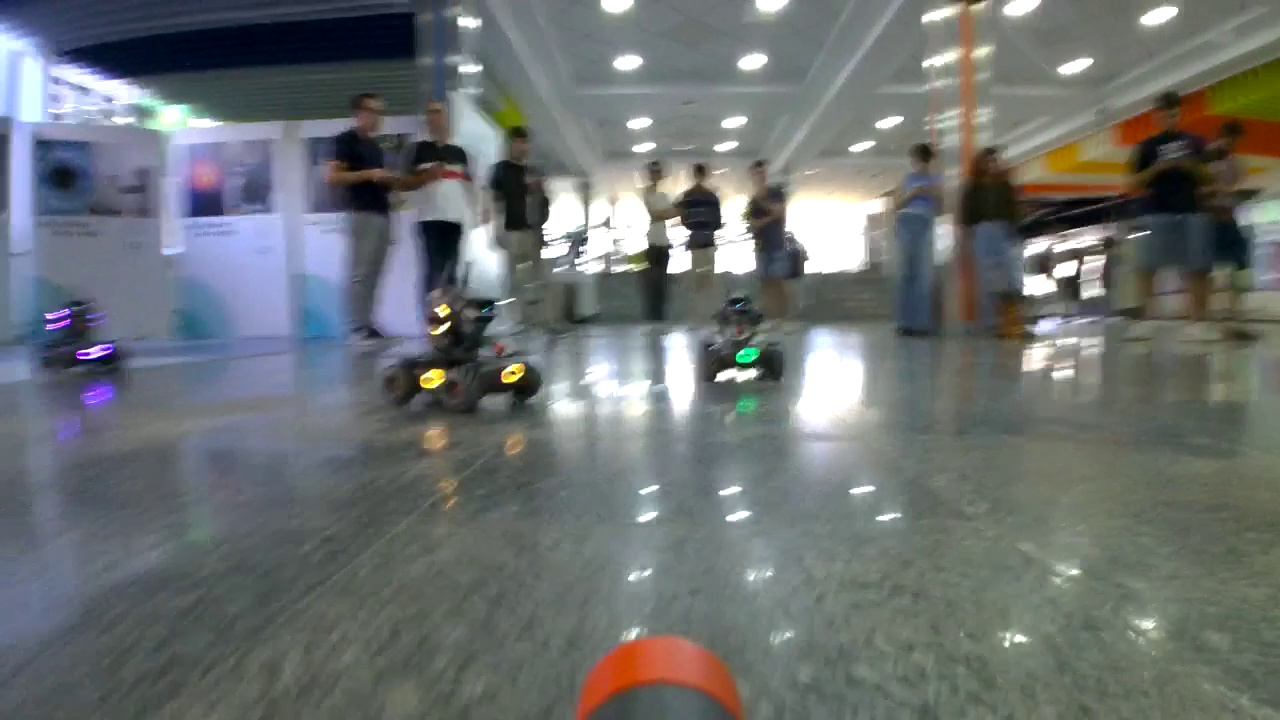robot: (379, 257, 542, 412), (696, 292, 783, 385), (41, 304, 122, 370)
